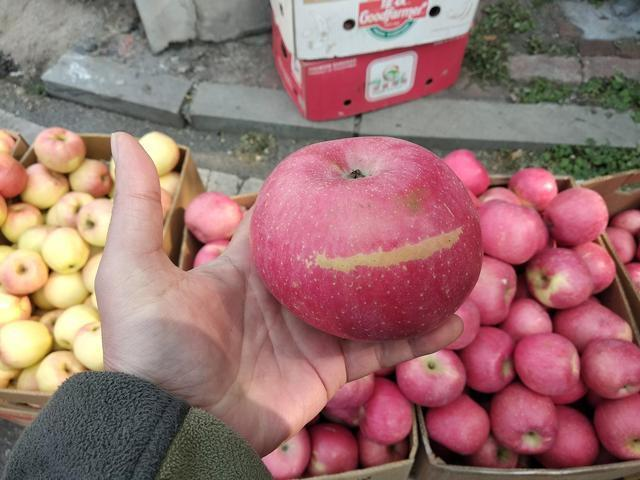apple: (251, 138, 485, 338), (490, 382, 561, 453), (393, 348, 467, 409), (481, 195, 545, 265), (514, 334, 582, 397), (527, 248, 594, 307), (546, 187, 610, 248), (424, 393, 489, 453), (357, 379, 415, 444), (581, 338, 640, 400), (464, 325, 516, 392), (180, 188, 239, 241), (302, 423, 357, 476), (594, 398, 640, 458), (30, 127, 85, 174), (259, 430, 309, 478), (21, 162, 69, 212), (37, 348, 87, 393), (43, 227, 89, 274), (1, 250, 47, 295), (69, 158, 114, 198), (70, 320, 102, 372), (77, 198, 112, 245), (2, 201, 42, 241)
